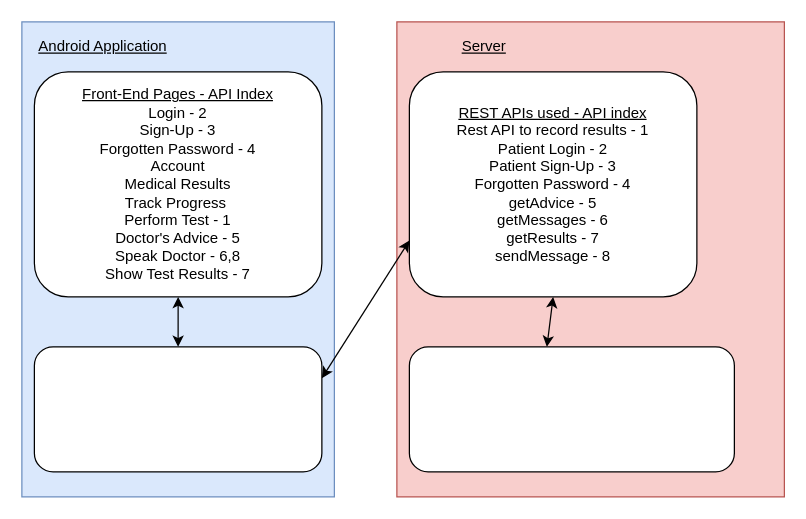
Some shapes in this 806 by 519 pixel diagram are drawn without their labels. The shapes that lost their labels are listed below. From the top down, each one's centre as x and y in pixels, then its label:
(x=177, y=409): Back-End - Android Application
(x=571, y=409): Database Tables Used by Android Application Patient Data Advice Messages Results
